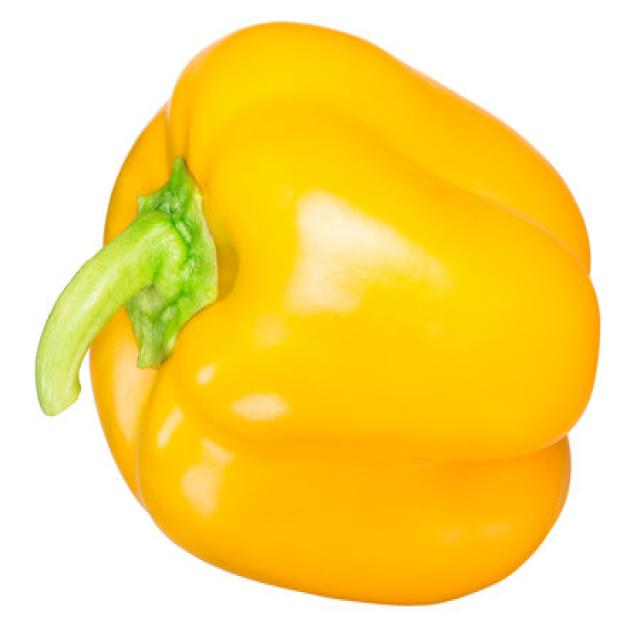Bell Pepper: (42, 17, 608, 604)
